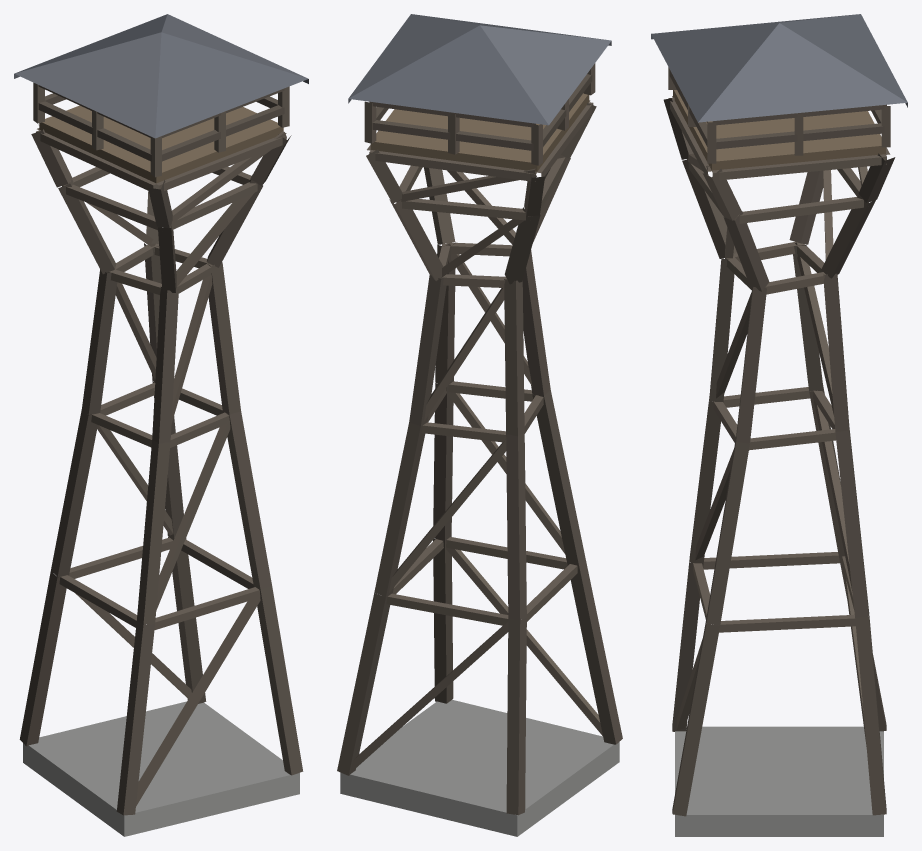
The model's file is tower_fire.glb.
3 renders of one model, left to right at view 1: azimuth 30°, elevation 25°; view 2: azimuth 150°, elevation 25°; view 3: azimuth 270°, elevation 25°, orthographic. The views are drawn at different scales.
Parts seen in each view (by area): view 1: tower_fire; view 2: tower_fire; view 3: tower_fire.
Part boxes in pixels (x1,y1,x2,y2): tower_fire: (14,14,308,836); tower_fire: (337,14,622,836); tower_fire: (651,14,907,836).
Bounding box in the file's own units: 5.9 × 19.5 × 5.9.
